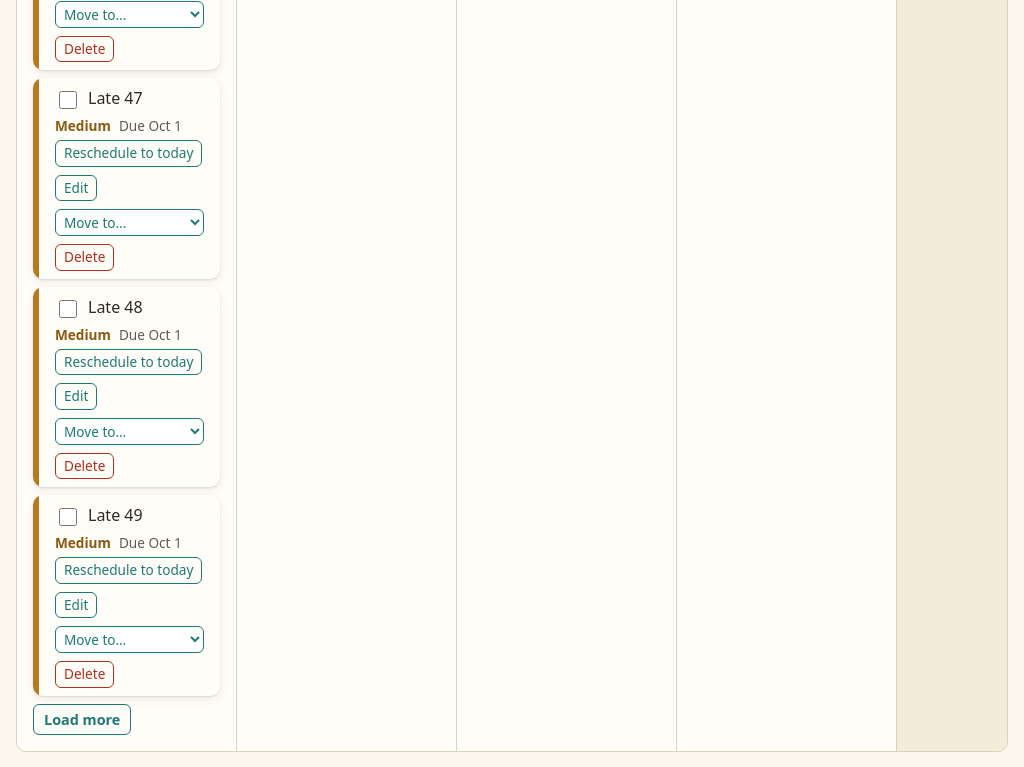
Test: overdue › loads more when there are over 50
(page scrolled)
Click the button "Load more".
click(82, 720)  # box x1=33 y1=704 x2=131 y2=735
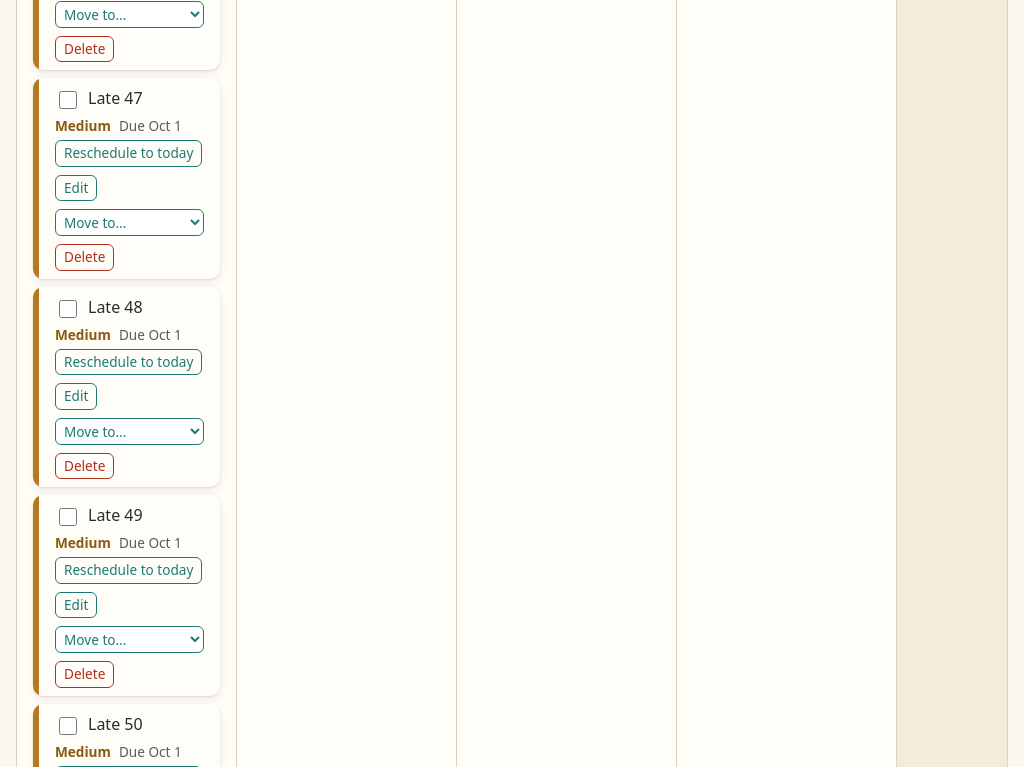
Expected: the button "Load more" is gone
